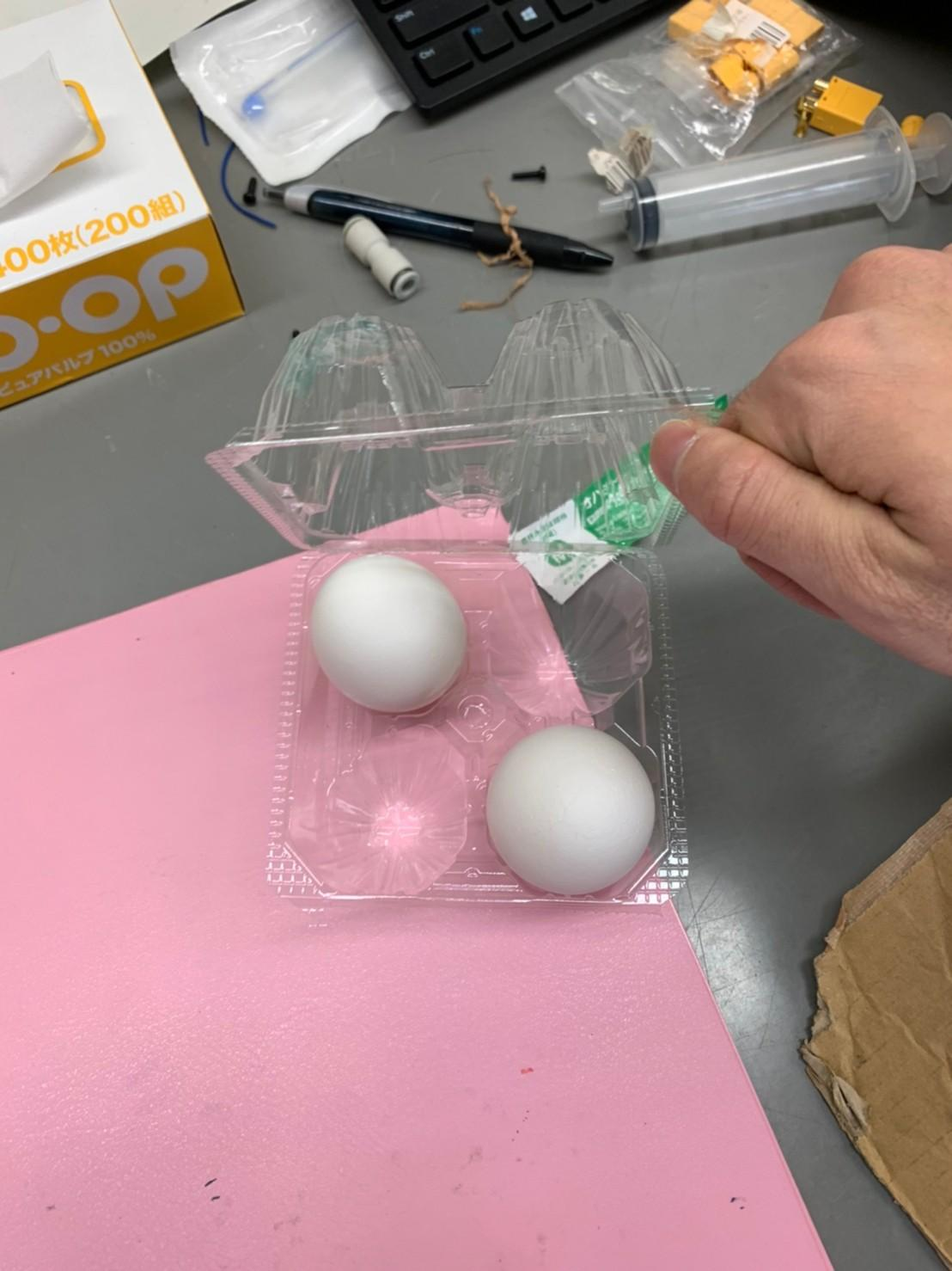egg: (483, 714, 662, 903), (308, 541, 469, 714)
